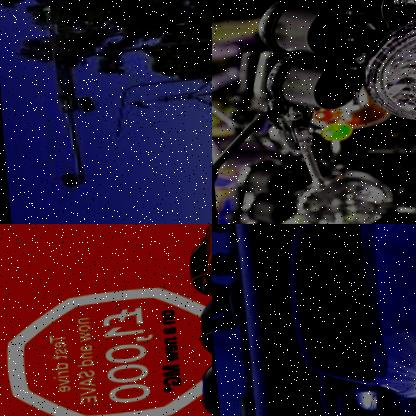bike: (231, 0, 416, 153), (254, 90, 416, 224)
car: (278, 224, 416, 416), (179, 224, 212, 284), (191, 274, 212, 346)
